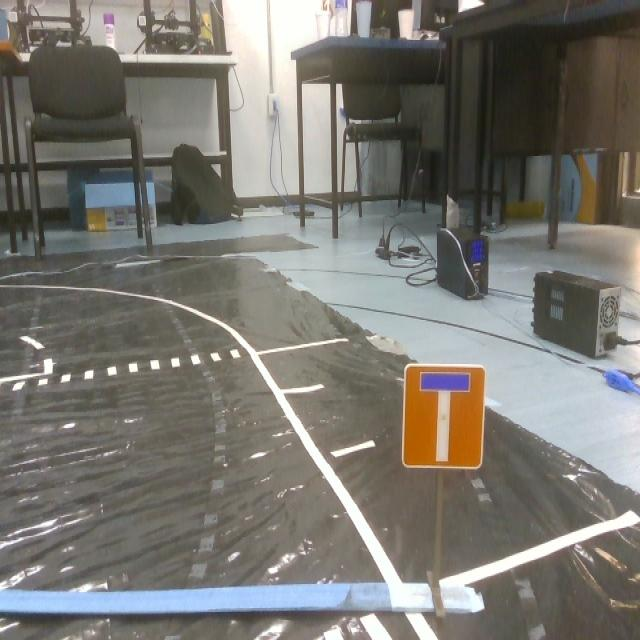stop: (408, 358, 487, 478)
